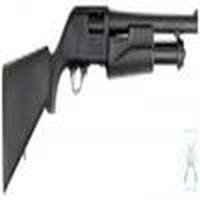gun: (3, 7, 200, 184)
